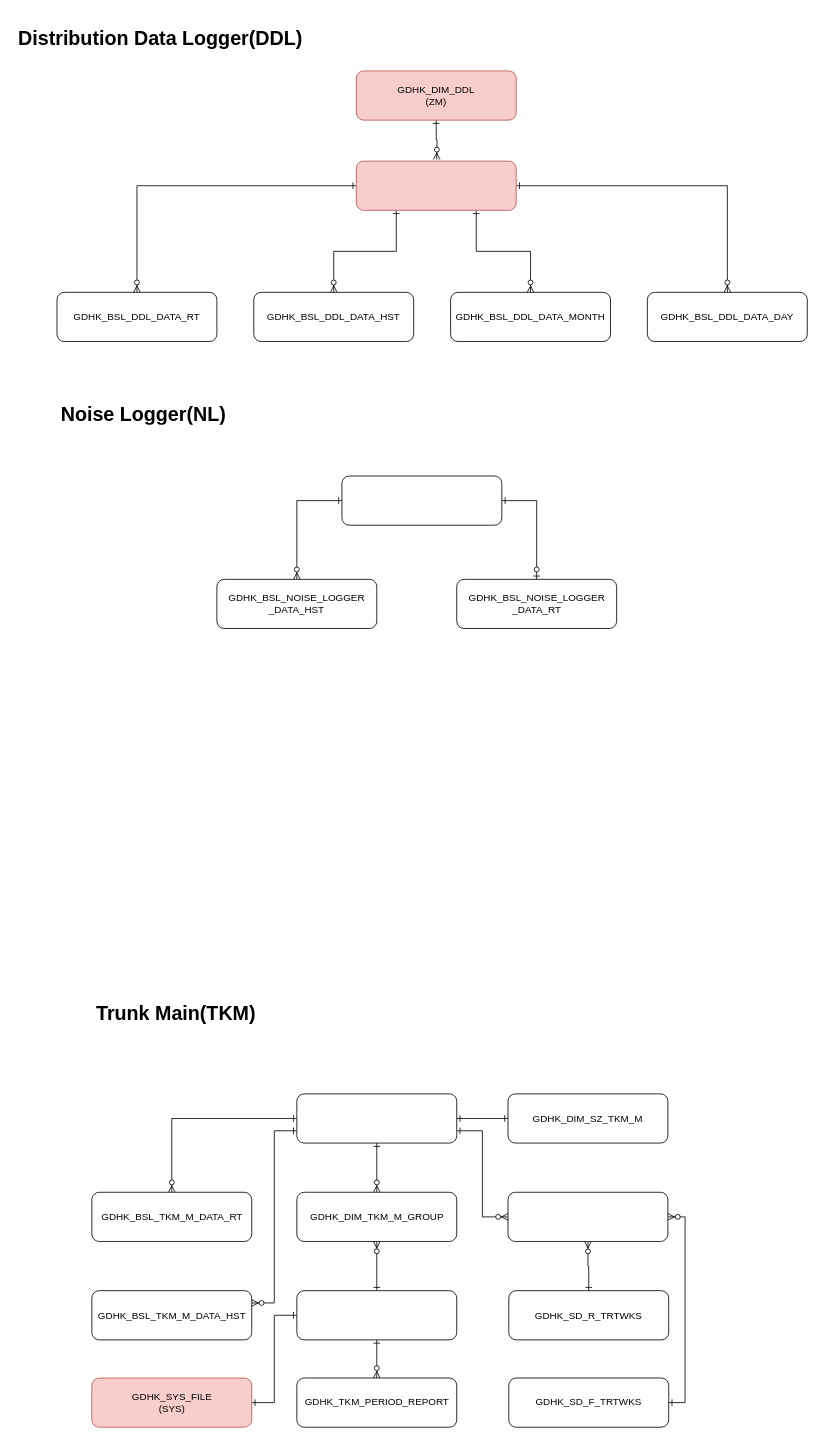
This 822x1442 diagram has some shape labels left out. The box of each missing label's shape, as (x1, y1, x2, y2) in pixels:
GDHK_DIM_DMA_LOGGER_REF (ZM): (355, 160, 516, 210)
GDHK_DIM_NOISE_LOGGER: (341, 475, 502, 525)
GDHK_DIM_TKM_GROUP: (296, 1290, 457, 1340)
GDHK_DIM_TKM_M: (296, 1093, 457, 1143)
GDHK_DIM_TKM_M_TW: (507, 1191, 668, 1241)
